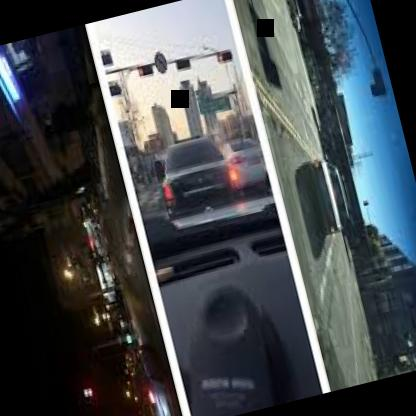car: (147, 120, 253, 219), (106, 330, 188, 416), (306, 140, 364, 250)
